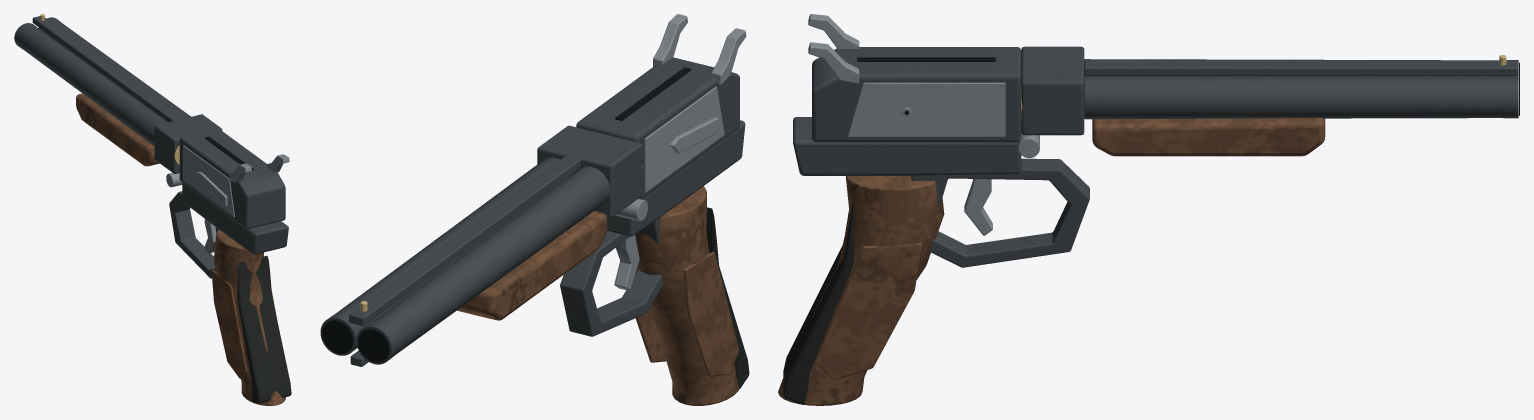
File: deadbolt.glb
The picture shows the model from 3 angles, left to right: view 1: azimuth 30°, elevation 25°; view 2: azimuth 150°, elevation 25°; view 3: azimuth 270°, elevation 25°; orthographic projection. The views are drawn at different scales.
Visible parts, largest first — view 1: Deadbolt_Static_Treated graphite, Deadbolt_BarrelTube, Deadbolt_Backstrap, Deadbolt_Grip, Deadbolt_Static_Machined steel, Deadbolt_Receiver, Deadbolt_Foreend, Deadbolt_TopRib, Deadbolt_Static_Laminated walnut, Deadbolt_Barrel, Deadbolt_BarrelTube.001, Deadbolt_Trigger; view 2: Deadbolt_Static_Treated graphite, Deadbolt_BarrelTube, Deadbolt_Grip, Deadbolt_Static_Machined steel, Deadbolt_Foreend, Deadbolt_Static_Laminated walnut, Deadbolt_TopRib, Deadbolt_Barrel, Deadbolt_Receiver, Deadbolt_BarrelTube.001, Deadbolt_Backstrap, Deadbolt_Trigger (+3 smaller); view 3: Deadbolt_BarrelTube.001, Deadbolt_Static_Treated graphite, Deadbolt_Static_Machined steel, Deadbolt_Grip, Deadbolt_Foreend, Deadbolt_Static_Laminated walnut, Deadbolt_Receiver, Deadbolt_TopRib, Deadbolt_Barrel, Deadbolt_Backstrap, Deadbolt_BarrelTube, Deadbolt_Trigger (+1 smaller).
Boxes of the visible parts, x1,y1,x2,y2 form: Deadbolt_Static_Treated graphite: (169, 128, 285, 278); Deadbolt_BarrelTube: (14, 23, 167, 146); Deadbolt_Backstrap: (237, 255, 291, 403); Deadbolt_Grip: (214, 229, 285, 405); Deadbolt_Static_Machined steel: (166, 145, 289, 217); Deadbolt_Receiver: (182, 183, 288, 254); Deadbolt_Foreend: (76, 93, 159, 166); Deadbolt_TopRib: (32, 16, 182, 122); Deadbolt_Static_Laminated walnut: (211, 269, 276, 378); Deadbolt_Barrel: (154, 114, 222, 173); Deadbolt_BarrelTube.001: (38, 17, 190, 121); Deadbolt_Trigger: (204, 219, 216, 253); Deadbolt_Static_Treated graphite: (560, 57, 739, 336); Deadbolt_BarrelTube: (356, 166, 610, 364); Deadbolt_Grip: (635, 186, 739, 405); Deadbolt_Static_Machined steel: (615, 14, 746, 221); Deadbolt_Foreend: (457, 210, 607, 320); Deadbolt_Static_Laminated walnut: (635, 251, 739, 376); Deadbolt_TopRib: (349, 155, 580, 325); Deadbolt_Barrel: (537, 125, 642, 217); Deadbolt_Receiver: (607, 120, 745, 236); Deadbolt_BarrelTube.001: (320, 157, 572, 355); Deadbolt_Backstrap: (706, 207, 749, 388); Deadbolt_Trigger: (614, 235, 639, 290); Deadbolt_BarrelTube.001: (1084, 76, 1518, 119); Deadbolt_Static_Treated graphite: (812, 47, 1089, 267); Deadbolt_Static_Machined steel: (808, 14, 1039, 157); Deadbolt_Grip: (778, 176, 944, 405); Deadbolt_Foreend: (1092, 118, 1325, 156); Deadbolt_Static_Laminated walnut: (814, 242, 922, 380); Deadbolt_Receiver: (793, 117, 1021, 175); Deadbolt_TopRib: (1084, 61, 1518, 76); Deadbolt_Barrel: (1021, 46, 1084, 135); Deadbolt_Backstrap: (783, 202, 853, 404); Deadbolt_BarrelTube: (1084, 59, 1518, 77); Deadbolt_Trigger: (964, 179, 992, 235).
Bounding box in the file's own units: 0.048 × 0.2033 × 0.3758.
Materials: 7 (7 with a texture image).
